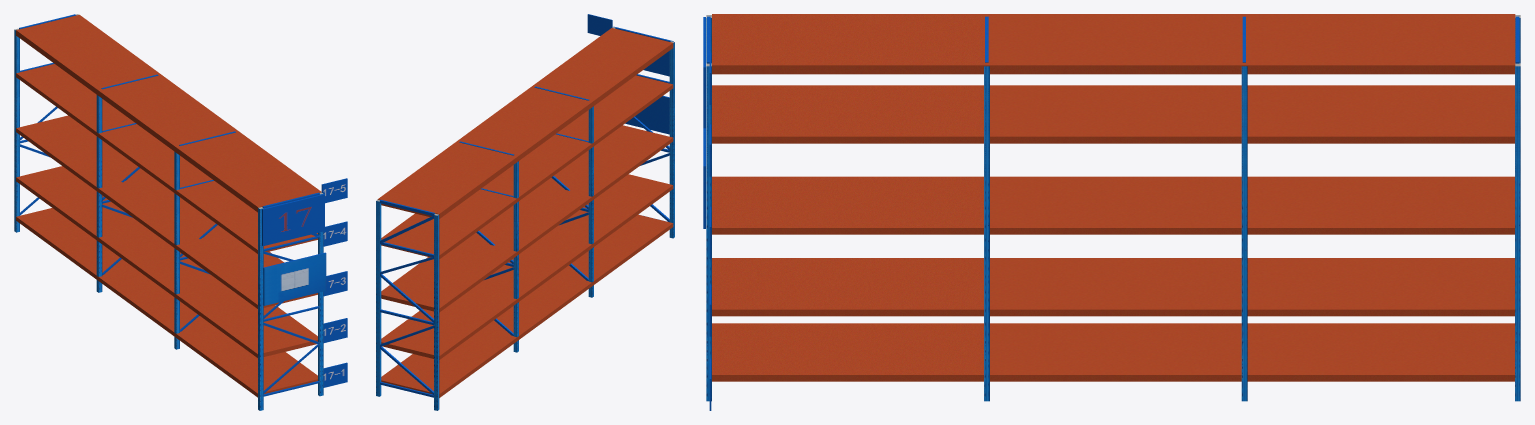
Rendered from Shelf17.FBX.
The picture shows the model from 3 angles, left to right: view 1: azimuth 30°, elevation 25°; view 2: azimuth 150°, elevation 25°; view 3: azimuth 270°, elevation 25°; orthographic projection. The views are drawn at different scales.
Parts seen in each view (by area): view 1: 图形452, 17-5-01, 17-5-03, 17-5-02, 17-2-01, 17-3-03, 17-1-01, 17-3-02, 17-2-03, 17-2-02, 17-3-01, 17-4-03 (+11 smaller); view 2: 图形452, 17-5-03, 17-5-01, 17-5-02, 17-3-03, 17-2-03, 17-3-01, 17-4-03, 17-3-02, 17-1-03, 17-2-01, 17-2-02 (+7 smaller); view 3: 17-5-01, 17-5-03, 17-1-01, 17-4-01, 17-3-01, 17-2-01, 17-4-03, 17-1-03, 17-3-03, 17-2-03, 17-5-02, 17-2-02 (+4 smaller).
Part boxes in pixels (x1=…): 图形452: x1=14, y1=14, x2=323, y2=410; 17-5-01: x1=175, y1=131, x2=321, y2=212; 17-5-03: x1=16, y1=14, x2=159, y2=94; 17-5-02: x1=96, y1=74, x2=238, y2=151; 17-2-01: x1=175, y1=282, x2=317, y2=357; 17-3-03: x1=16, y1=115, x2=148, y2=190; 17-1-01: x1=175, y1=324, x2=317, y2=397; 17-3-02: x1=96, y1=174, x2=227, y2=248; 17-2-03: x1=16, y1=166, x2=142, y2=239; 17-2-02: x1=96, y1=225, x2=221, y2=297; 17-3-01: x1=175, y1=232, x2=317, y2=308; 17-4-03: x1=16, y1=64, x2=134, y2=135; 图形452: x1=376, y1=27, x2=674, y2=410; 17-5-03: x1=377, y1=142, x2=517, y2=218; 17-5-01: x1=532, y1=28, x2=673, y2=106; 17-5-02: x1=456, y1=86, x2=593, y2=161; 17-3-03: x1=381, y1=239, x2=517, y2=312; 17-2-03: x1=381, y1=288, x2=517, y2=359; 17-3-01: x1=543, y1=125, x2=673, y2=199; 17-4-03: x1=381, y1=189, x2=517, y2=258; 17-3-02: x1=467, y1=183, x2=593, y2=255; 17-1-03: x1=381, y1=329, x2=517, y2=397; 17-2-01: x1=549, y1=174, x2=673, y2=246; 17-2-02: x1=473, y1=232, x2=593, y2=302; 17-5-01: x1=712, y1=14, x2=985, y2=74; 17-5-03: x1=1247, y1=14, x2=1515, y2=74; 17-1-01: x1=712, y1=323, x2=983, y2=381; 17-4-01: x1=712, y1=85, x2=983, y2=143; 17-3-01: x1=712, y1=176, x2=983, y2=234; 17-2-01: x1=712, y1=258, x2=983, y2=316; 17-4-03: x1=1247, y1=85, x2=1514, y2=143; 17-1-03: x1=1247, y1=323, x2=1514, y2=381; 17-3-03: x1=1247, y1=176, x2=1514, y2=234; 17-2-03: x1=1247, y1=258, x2=1514, y2=316; 17-5-02: x1=986, y1=14, x2=1247, y2=74; 17-2-02: x1=990, y1=258, x2=1241, y2=316.
Bounding box in the file's own units: 1.13 × 5.45 × 2.56.
